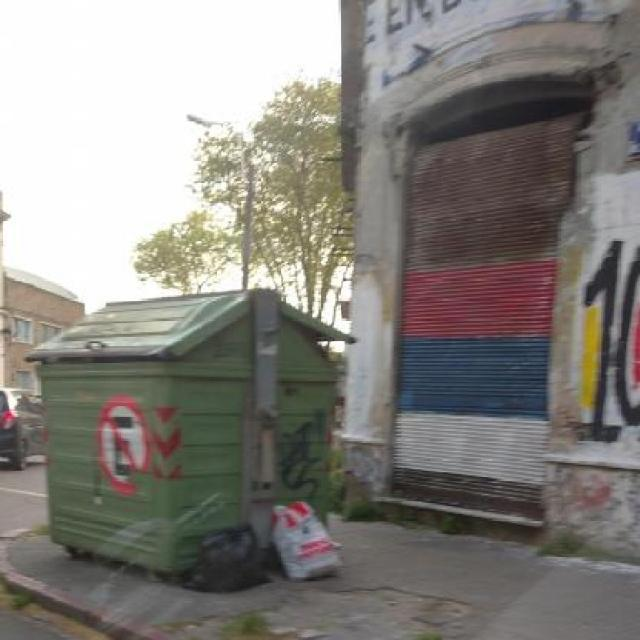garbage: (149, 506, 390, 606)
